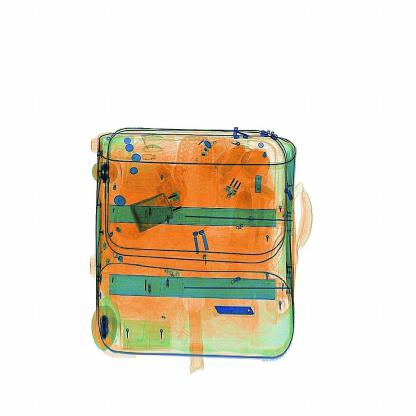pliers: (209, 304, 254, 326)
